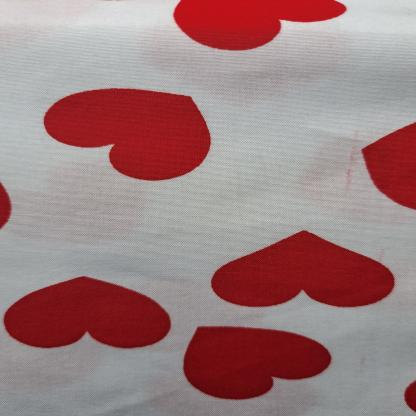spot: (342, 128, 363, 195)
